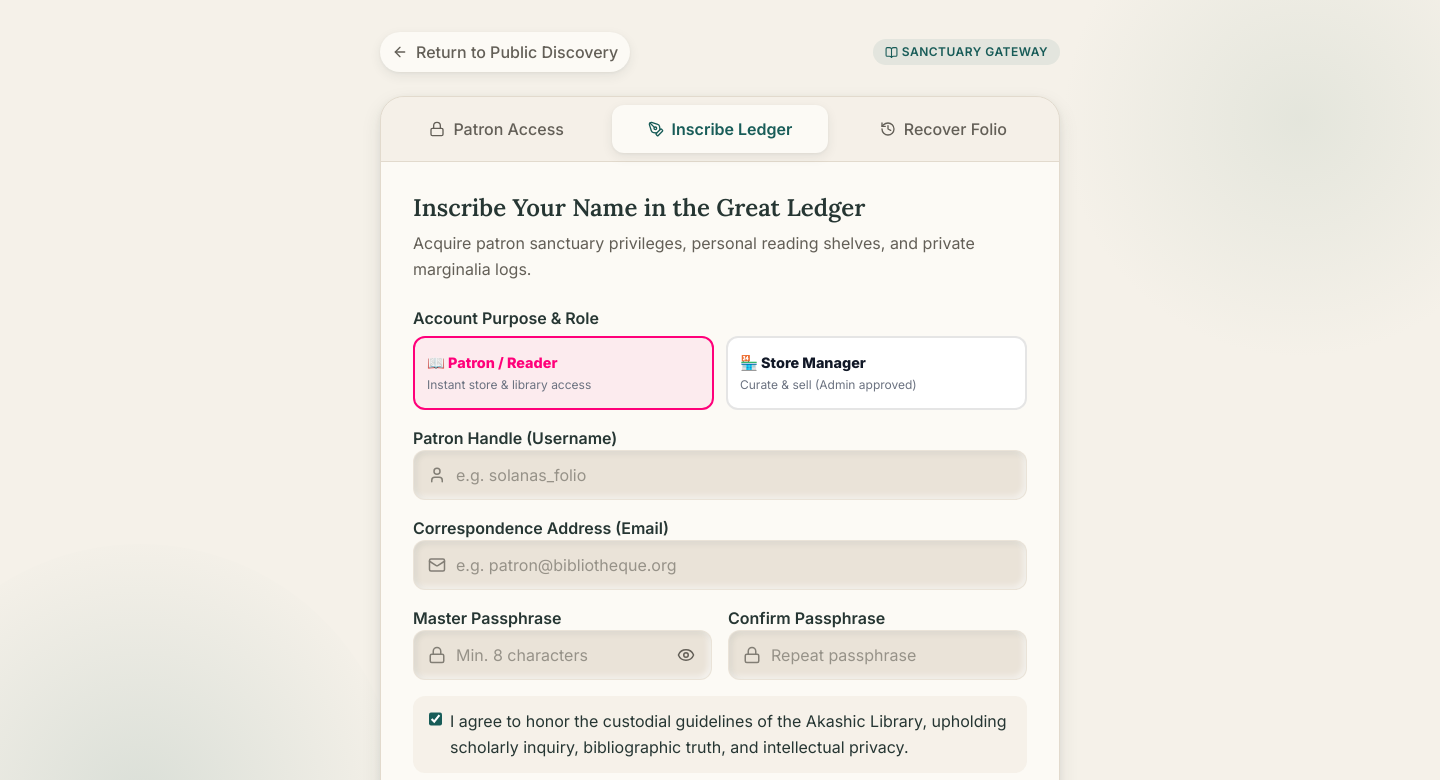
Test: AuthPage — Patron Authentication Hub › 7. displays error if passwords do not match during registration
Type "newpatron" into the field labelled "Patron Handle (Username)" at {"x": 720, "y": 475}, box [414, 451, 1026, 499]
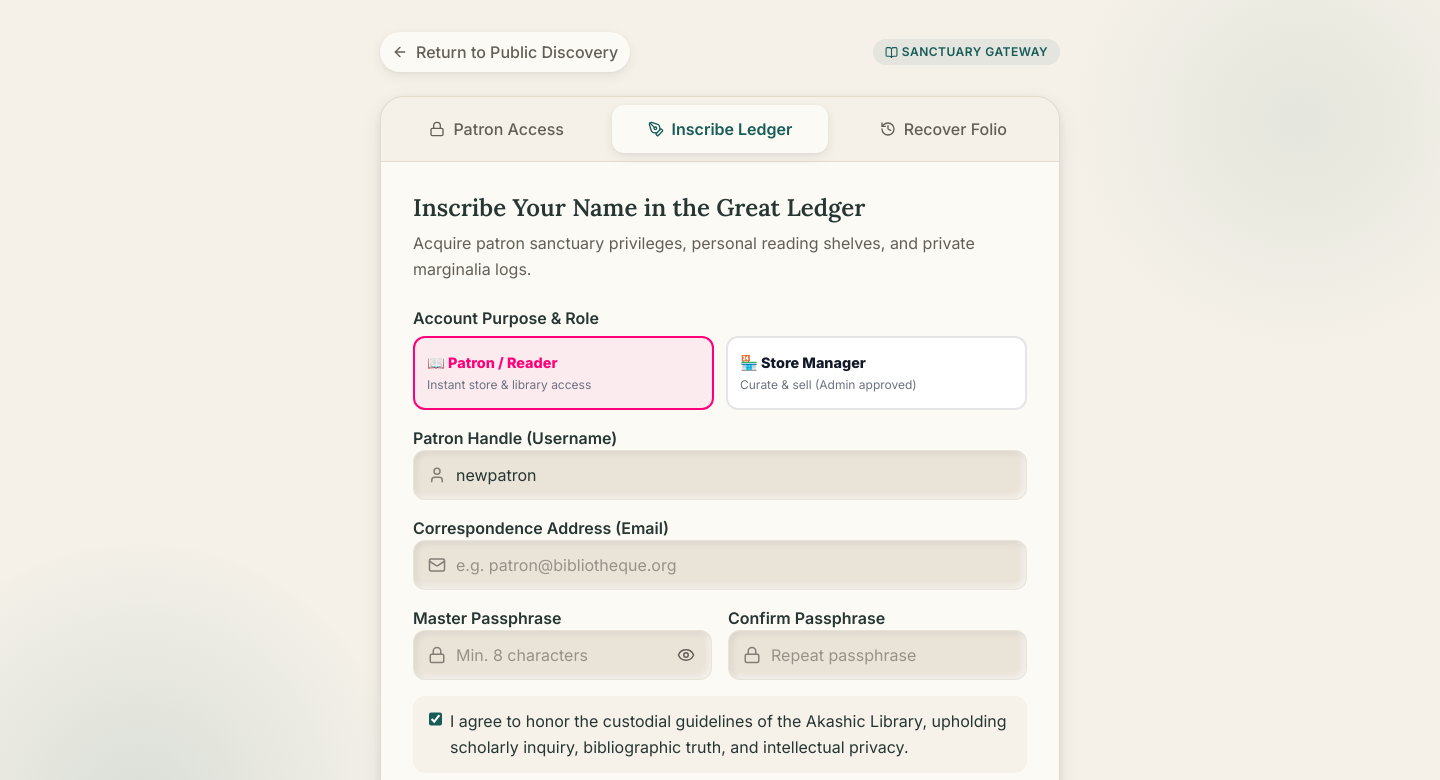
Type "new@akashic.org" into the field labelled "Correspondence Address (Email)" at {"x": 720, "y": 565}, box [414, 541, 1026, 589]
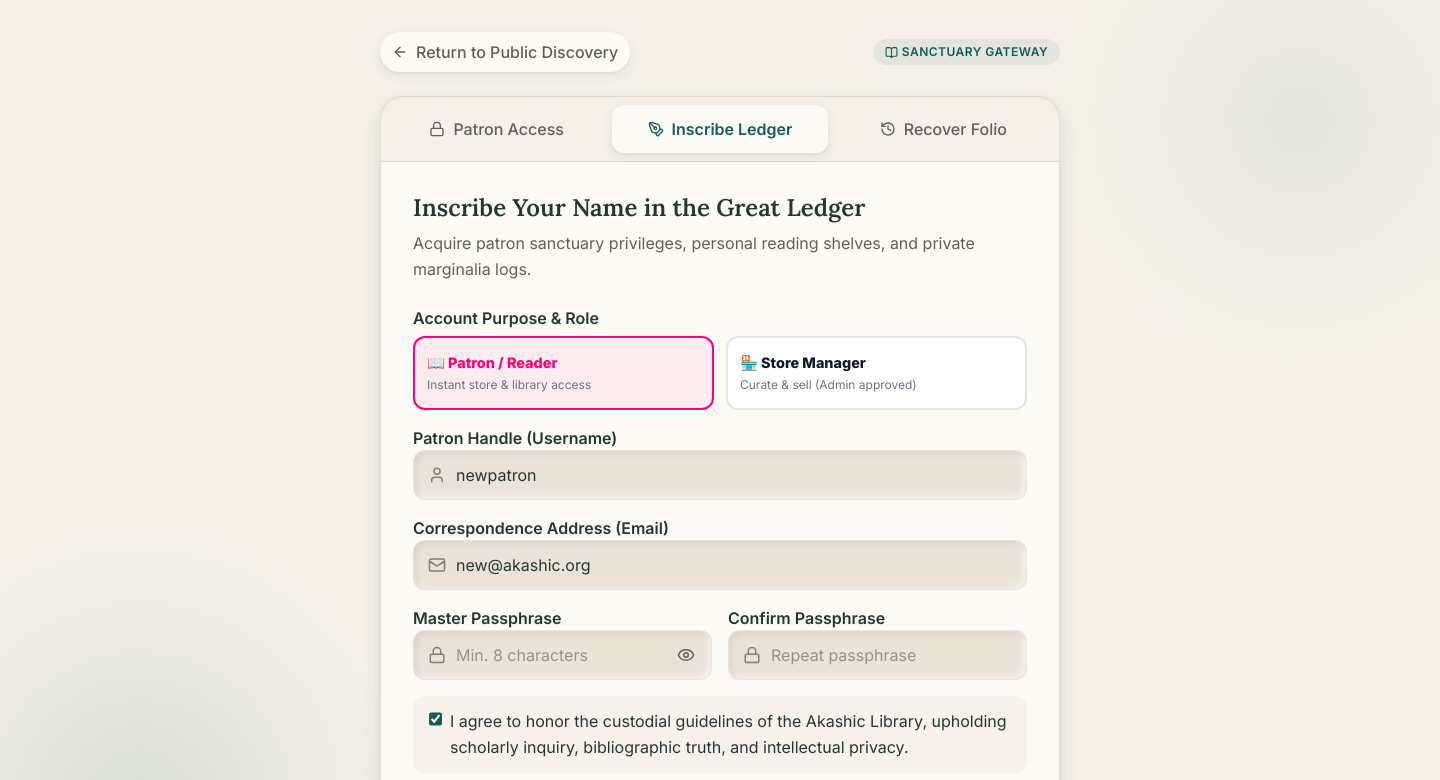
Type "Password123" into the password field labelled "Master Passphrase" at {"x": 562, "y": 655}, box [414, 631, 711, 679]
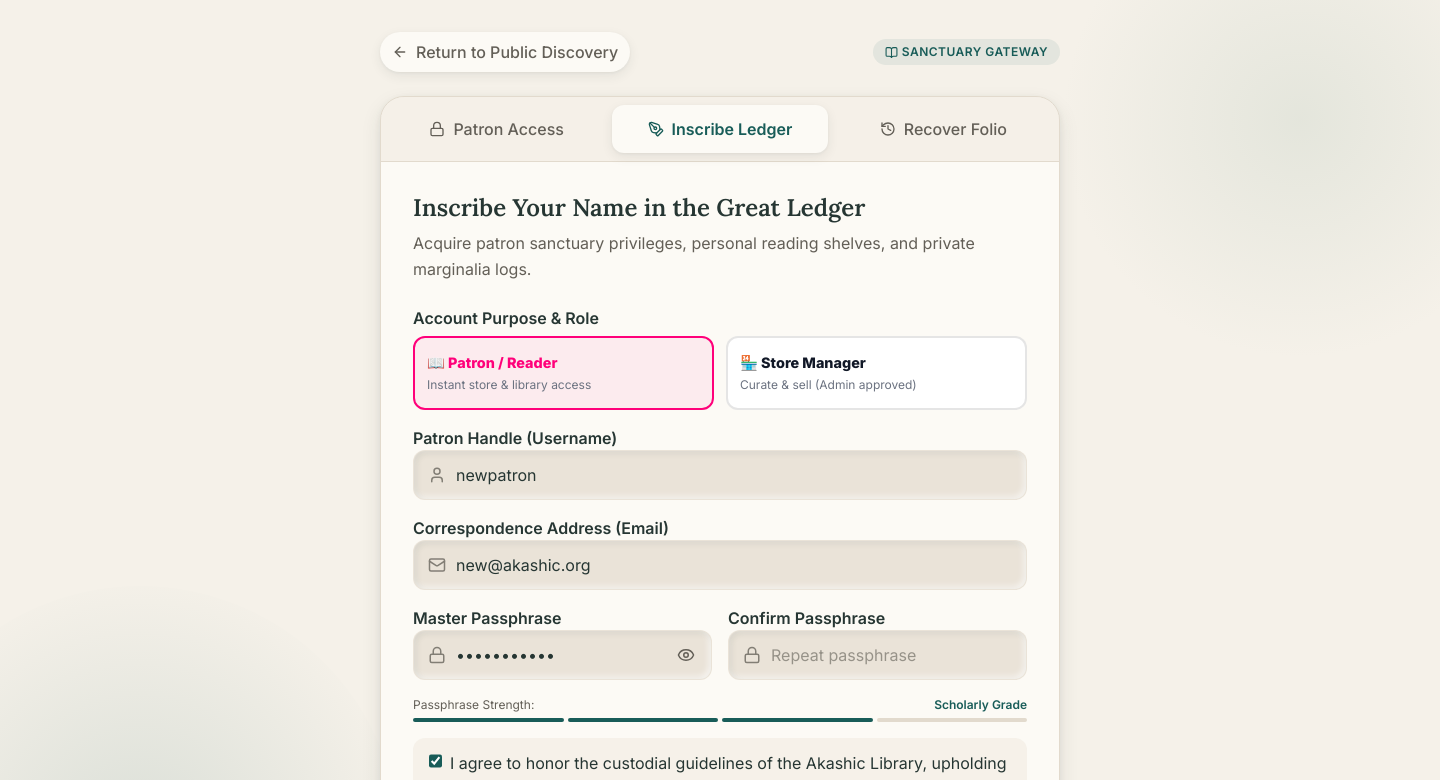
Type "PasswordMismatch999" into the password field labelled "Confirm Passphrase" at {"x": 878, "y": 655}, box [729, 631, 1026, 679]
(page scrolled)
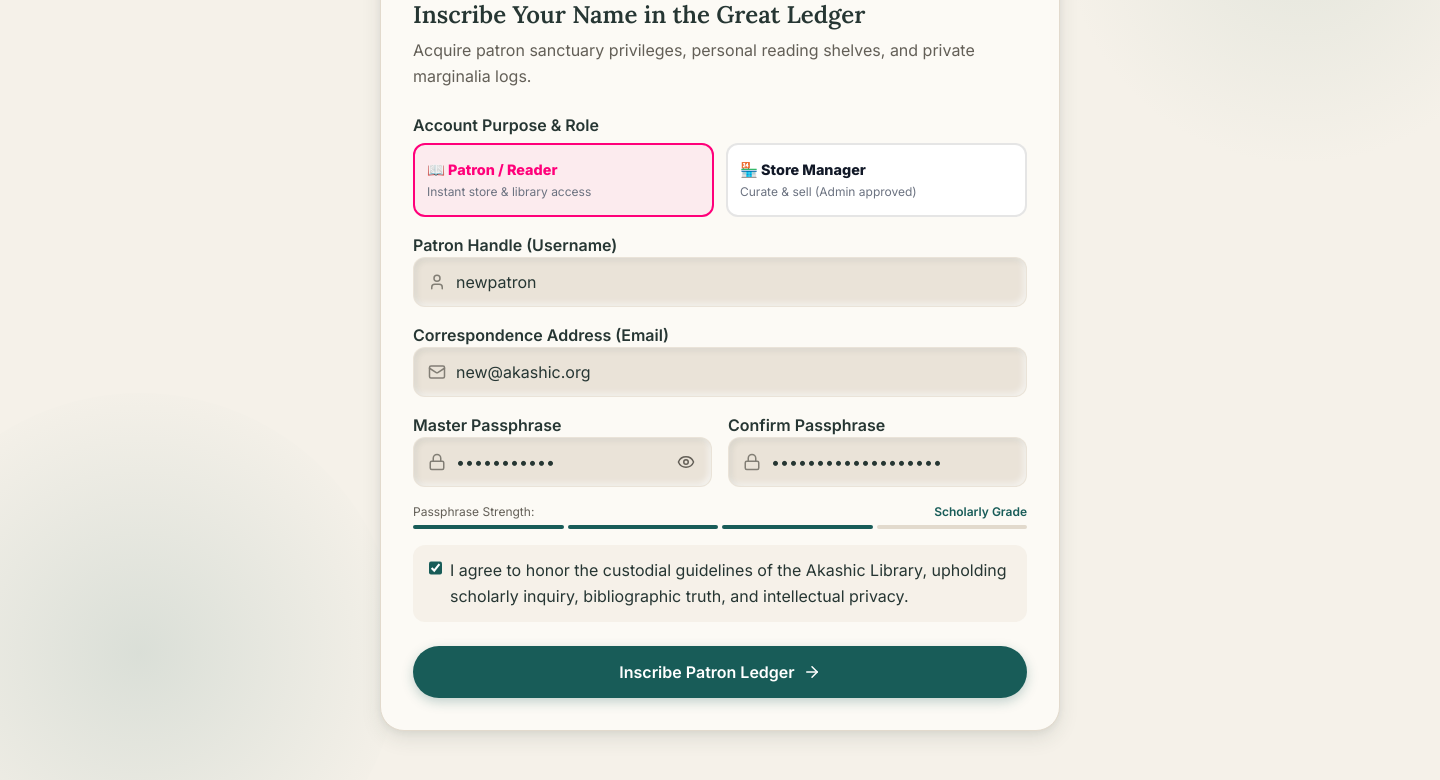
Submit the form named "Inscribe Patron Ledger", box [413, 113, 1027, 698]
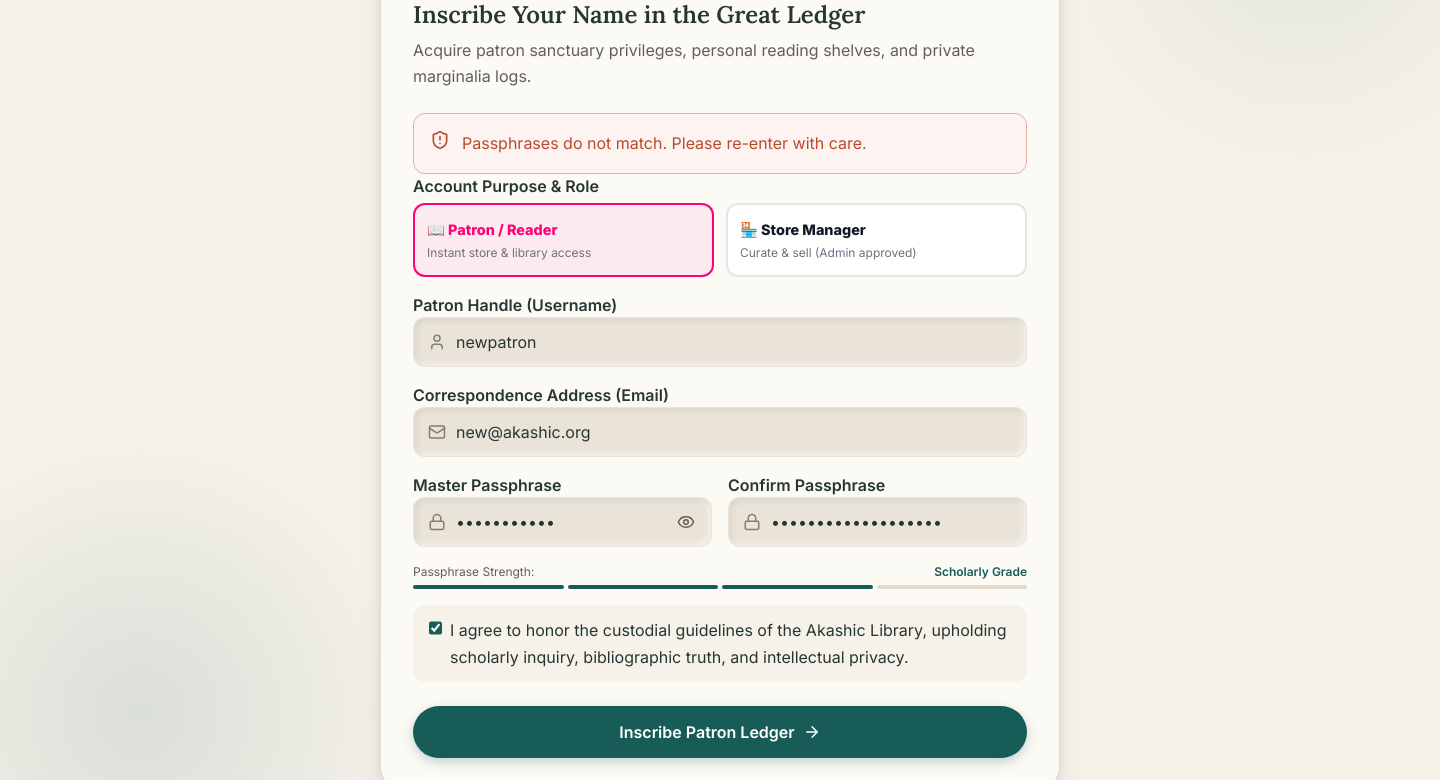
Expected: the text "Passphrases do not match. Please re-enter with care." is shown, [462, 130, 867, 157]
